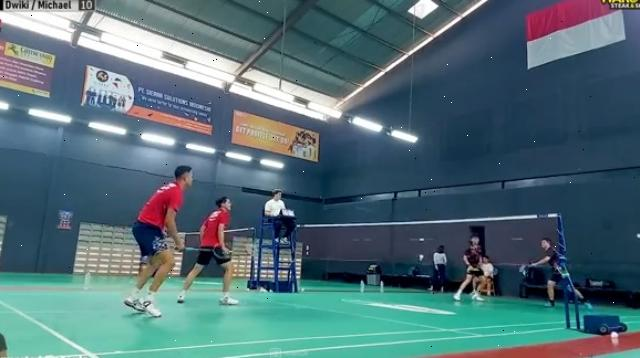Shuttlecock: (416, 254, 428, 264)
